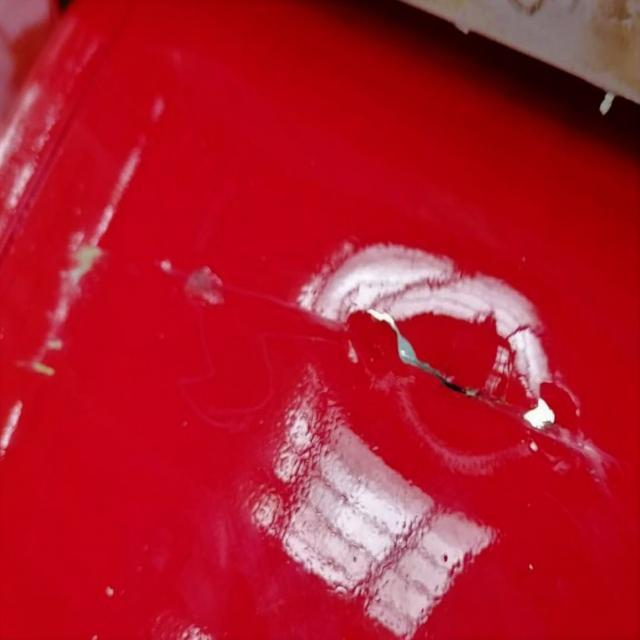crack: (191, 239, 593, 472)
